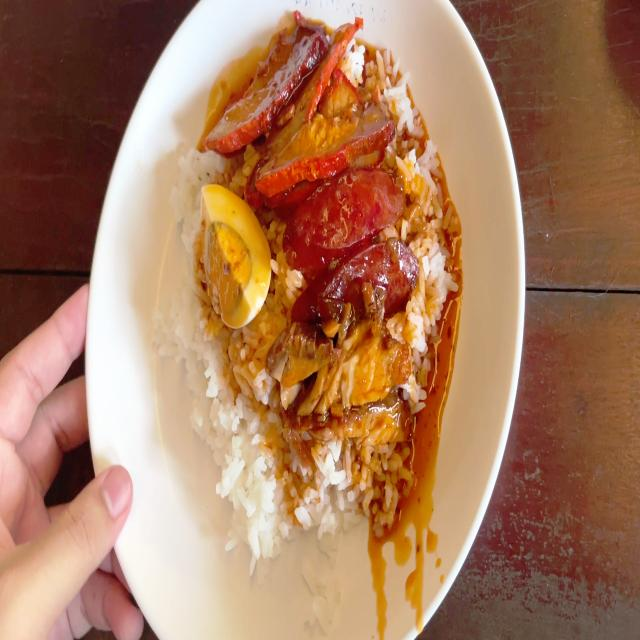boiled_egg: (199, 185, 270, 322)
chainese_sausage: (292, 176, 411, 324)
crispy_pork: (281, 334, 411, 454)
red_pork: (213, 33, 390, 185)
red_pork_and_crispy_pork: (171, 34, 446, 535)
rice: (189, 332, 273, 532), (269, 445, 407, 529)
